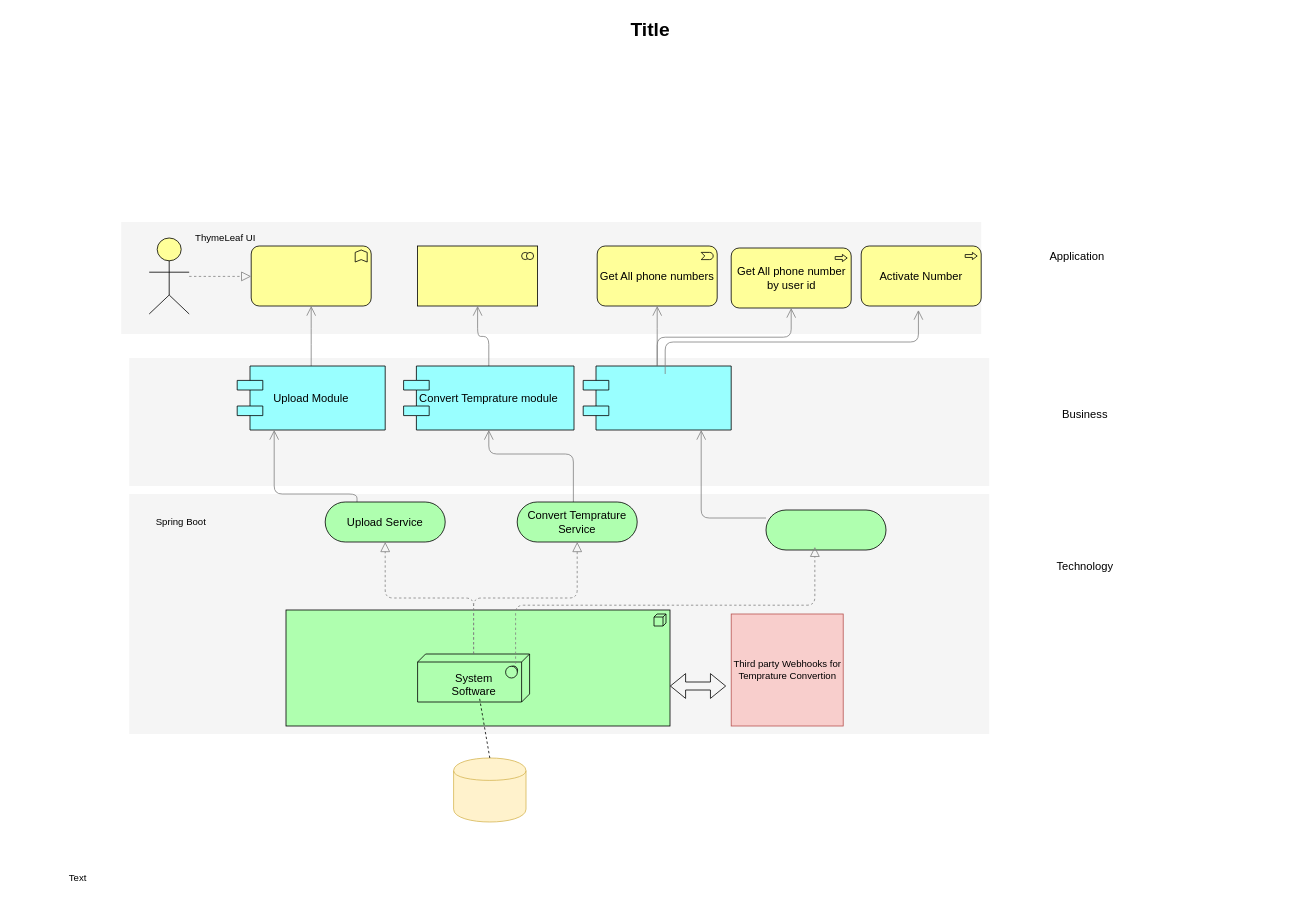
This 1299x899 diagram has some shape labels left out. The shapes that lost their labels are listed below. From the top down, each one's centre as x and y in pixels, then its label:
[310,275]: Upload
[477,275]: Convert Temprature
[656,397]: User Phone API Module
[825,529]: API Service
[489,789]: Bankonus_DB
